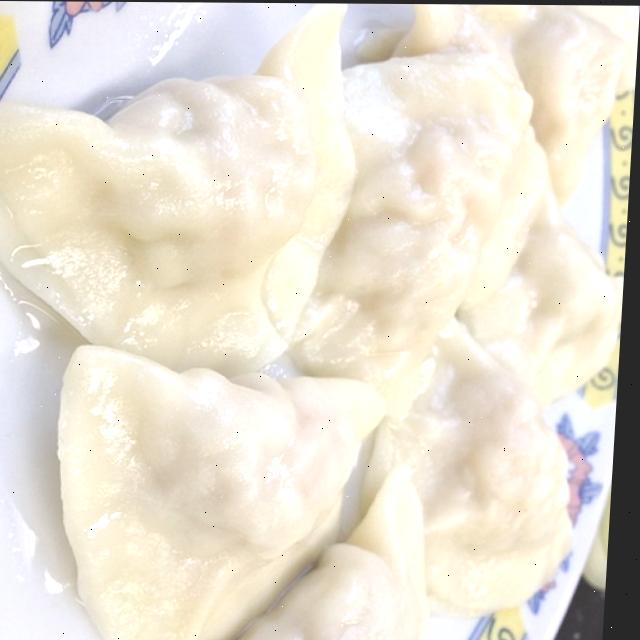带馅早点: (0, 4, 640, 636)
